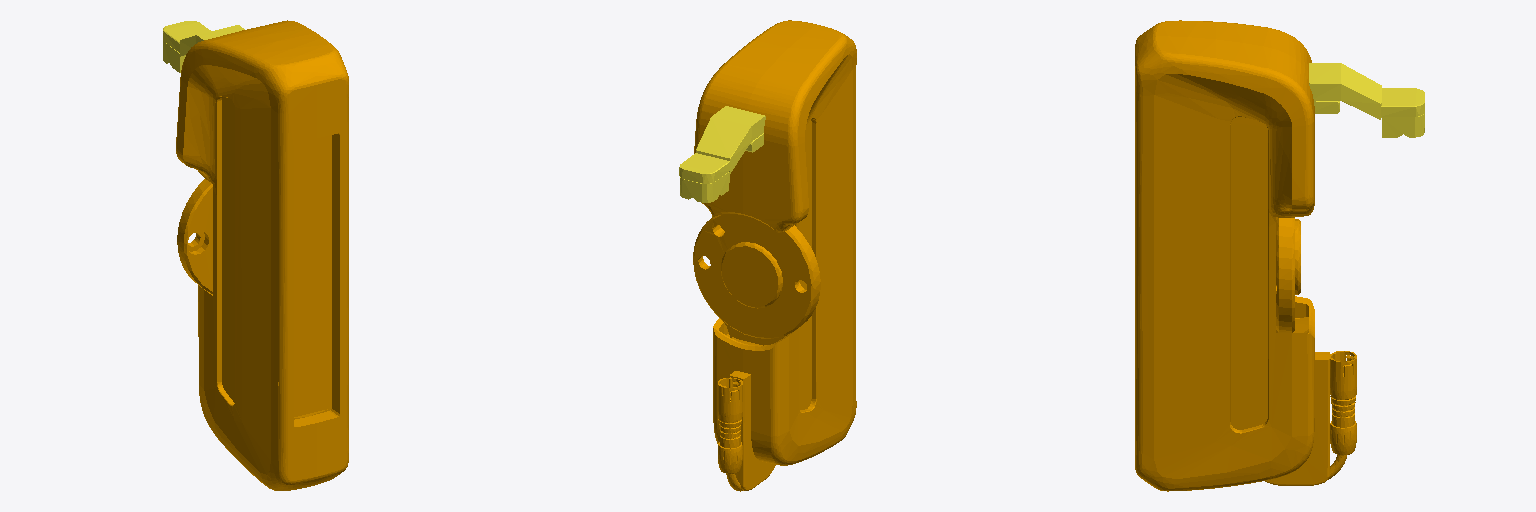
URDF robot description (panda_gripper):
<?xml version="1.0"?>
<robot name="panda_gripper">
  <link name="panda_hand">
    <visual>
      <geometry>
        <mesh filename="meshes/visual/hand.stl"/>
      </geometry>
    </visual>
    <collision>
      <origin rpy="1.570795 0 0" xyz="0 0 0.02617"/>
      <geometry>
        <box size="0.036 0.08 0.2"/>
      </geometry>
    </collision>
    <collision>
      <origin rpy="0 0 0" xyz="0 0 0.0003"/>
      <geometry>
        <cylinder radius="0.03" length="0.0077"/>
      </geometry>
    </collision>
    <inertial>
      <origin rpy="0 0 0" xyz="-0.01 0 0.03"/>
      <mass value="0.73"/>
      <inertia ixx="0.001" ixy="0" ixz="0" iyy="0.0025" iyz="0" izz="0.0017"/>
    </inertial>
  </link>
  <link name="panda_hand_tcp"/>
  <joint name="panda_hand_tcp_joint" type="fixed">
    <origin rpy="0 0 0" xyz="0 0 0.1034"/>
    <parent link="panda_hand"/>
    <child link="panda_hand_tcp"/>
  </joint>
  <link name="panda_leftfinger">
    <visual>
      <geometry>
        <mesh filename="meshes/visual/finger.stl"/>
      </geometry>
    </visual>
    <collision>
      <origin rpy="0 0 0" xyz="0 18.5e-3 11e-3"/>
      <geometry>
        <box size="22e-3 15e-3 20e-3"/>
      </geometry>
    </collision>
    <collision>
      <origin rpy="0 0 0" xyz="0 6.8e-3 2.2e-3"/>
      <geometry>
        <box size="22e-3 8.8e-3 3.8e-3"/>
      </geometry>
    </collision>
    <collision>
      <origin rpy="0.5235987755982988 0 0" xyz="0 15.9e-3 28.35e-3"/>
      <geometry>
        <box size="17.5e-3 7e-3 23.5e-3"/>
      </geometry>
    </collision>
    <collision>
      <origin rpy="0 0 0" xyz="0 7.58e-3 45.25e-3"/>
      <geometry>
        <box size="17.5e-3 15.2e-3 18.5e-3"/>
      </geometry>
    </collision>
    <inertial>
      <origin rpy="0 0 0" xyz="0 0 0"/>
      <mass value="0.015"/>
      <inertia ixx="2.3749999999999997e-06" ixy="0" ixz="0" iyy="2.3749999999999997e-06"
               iyz="0" izz="7.5e-07"/>
    </inertial>
  </link>
  <link name="panda_rightfinger">
    <visual>
      <origin rpy="0 0 3.141592653589793" xyz="0 0 0"/>
      <geometry>
        <mesh filename="meshes/visual/finger.stl"/>
      </geometry>
    </visual>
    <collision>
      <origin rpy="0 0 0" xyz="0 -18.5e-3 11e-3"/>
      <geometry>
        <box size="22e-3 15e-3 20e-3"/>
      </geometry>
    </collision>
    <collision>
      <origin rpy="0 0 0" xyz="0 -6.8e-3 2.2e-3"/>
      <geometry>
        <box size="22e-3 8.8e-3 3.8e-3"/>
      </geometry>
    </collision>
    <collision>
      <origin rpy="-0.5235987755982988 0 0" xyz="0 -15.9e-3 28.35e-3"/>
      <geometry>
        <box size="17.5e-3 7e-3 23.5e-3"/>
      </geometry>
    </collision>
    <collision>
      <origin rpy="0 0 0" xyz="0 -7.58e-3 45.25e-3"/>
      <geometry>
        <box size="17.5e-3 15.2e-3 18.5e-3"/>
      </geometry>
    </collision>
    <inertial>
      <origin rpy="0 0 0" xyz="0 0 0"/>
      <mass value="0.015"/>
      <inertia ixx="2.3749999999999997e-06" ixy="0" ixz="0" iyy="2.3749999999999997e-06"
               iyz="0" izz="7.5e-07"/>
    </inertial>
  </link>
  <joint name="panda_finger_joint1" type="prismatic">
    <parent link="panda_hand"/>
    <child link="panda_leftfinger"/>
    <origin rpy="0 0 0" xyz="0 0 0.0584"/>
    <axis xyz="0 1 0"/>
    <limit effort="100" lower="0.0" upper="0.04" velocity="0.2"/>
    <dynamics damping="0.3"/>
  </joint>
  <joint name="panda_finger_joint2" type="prismatic">
    <parent link="panda_hand"/>
    <child link="panda_rightfinger"/>
    <origin rpy="0 0 0" xyz="0 0 0.0584"/>
    <axis xyz="0 -1 0"/>
    <limit effort="100" lower="0.0" upper="0.04" velocity="0.2"/>
    <mimic joint="panda_finger_joint1" multiplier="1" offset="0"/>
    <dynamics damping="0.3"/>
  </joint>
</robot>

--- What the picture shows (computed from the rendered views, not written in the file) ---
The picture shows the robot from 3 angles, left to right: view 1: azimuth 30°, elevation 25°; view 2: azimuth 150°, elevation 25°; view 3: azimuth 270°, elevation 25°; orthographic projection.
Model panda_gripper with 4 links and 3 joints (2 prismatic, 1 fixed), rooted at panda_hand, posed all joints at 0.
Links seen in each view (by area): view 1: panda_hand, panda_rightfinger; view 2: panda_hand, panda_rightfinger; view 3: panda_hand, panda_rightfinger.
Link boxes in pixels (box(x1,y1,x2,y2)): panda_hand: box(176, 20, 348, 490); panda_rightfinger: box(163, 21, 244, 72); panda_hand: box(693, 20, 856, 491); panda_rightfinger: box(679, 106, 765, 202); panda_hand: box(1135, 20, 1356, 491); panda_rightfinger: box(1309, 63, 1424, 137).
Bounding box of the posed robot: 0.063 × 0.1199 × 0.2045 m (x, y, z).
Meshes: 2 distinct files referenced, 3 mesh visuals loaded (2 binary STL).
